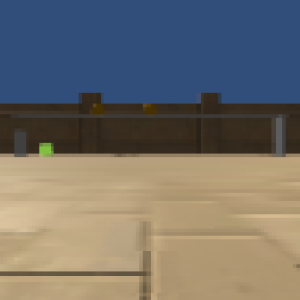goodGoal: (36, 139, 56, 157)
goodGoalMulti: (141, 102, 157, 113), (90, 103, 103, 114)
wall: (11, 111, 277, 119), (275, 114, 286, 157), (12, 129, 27, 159)
